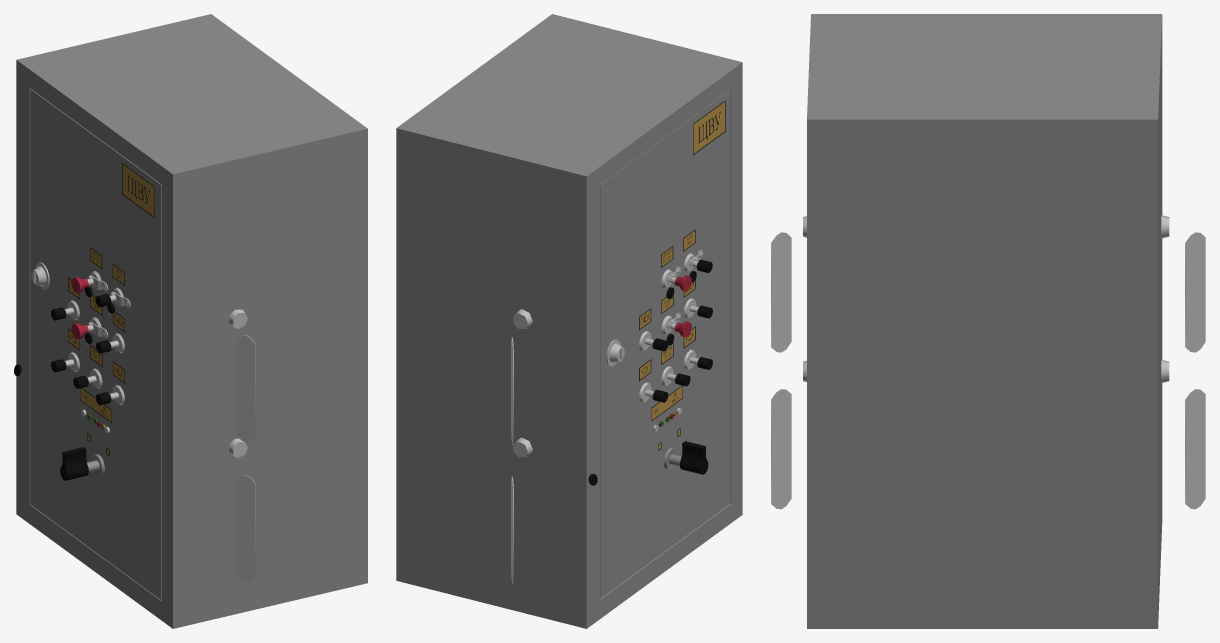
Rendered from shvu.fbx.
3 views of the same model, side by side, from view 1: azimuth 30°, elevation 25°; view 2: azimuth 150°, elevation 25°; view 3: azimuth 270°, elevation 25° (orthographic). The views are drawn at different scales.
Parts seen in each view (by area): view 1: box, bril1, bril2, Circle.001, Cylinder036; view 2: box, Circle.001, Cylinder036; view 3: box, bril1, bril3, bril2, bril4.
Part boxes in pixels (bbox=[...]): box: bbox=[14, 14, 367, 628]; bril1: bbox=[236, 335, 255, 442]; bril2: bbox=[236, 475, 255, 582]; Circle.001: bbox=[60, 447, 88, 480]; Cylinder036: bbox=[229, 309, 247, 457]; box: bbox=[396, 14, 742, 628]; Circle.001: bbox=[680, 441, 708, 474]; Cylinder036: bbox=[513, 309, 532, 457]; box: bbox=[807, 14, 1162, 628]; bril1: bbox=[771, 232, 791, 352]; bril3: bbox=[1185, 232, 1205, 352]; bril2: bbox=[771, 389, 791, 509]; bril4: bbox=[1185, 389, 1205, 509].
Size of the model in its own units: 30.76 by 58.47 by 45.19.
